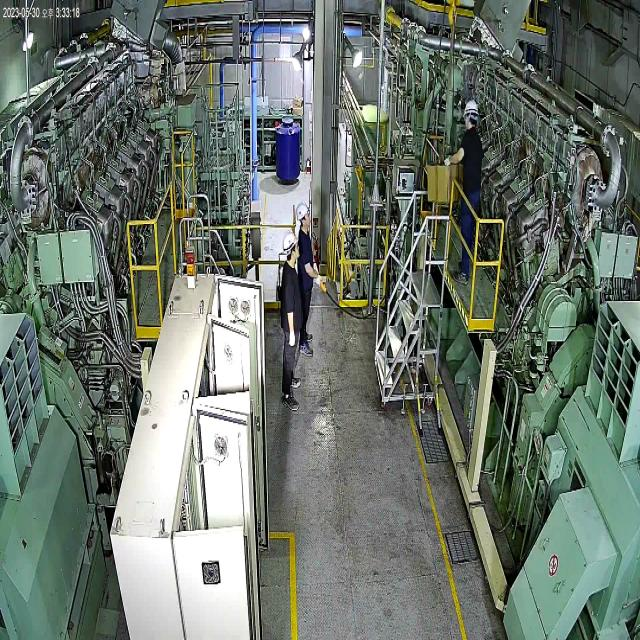Water Tank: (273, 108, 304, 188)
worker: (441, 93, 488, 290), (275, 231, 308, 415), (291, 198, 325, 364)
